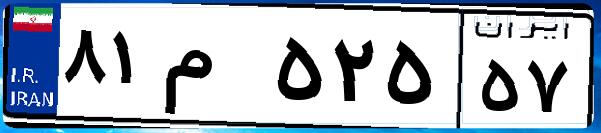1: (110, 28, 158, 98)
2: (330, 28, 385, 110)
5: (270, 28, 330, 110), (385, 28, 445, 110), (475, 38, 525, 113)
7: (525, 38, 570, 115)
8: (57, 26, 110, 100)
م: (158, 20, 270, 120)
